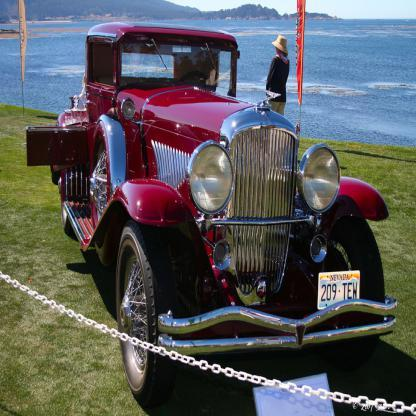car: (31, 20, 394, 402)
